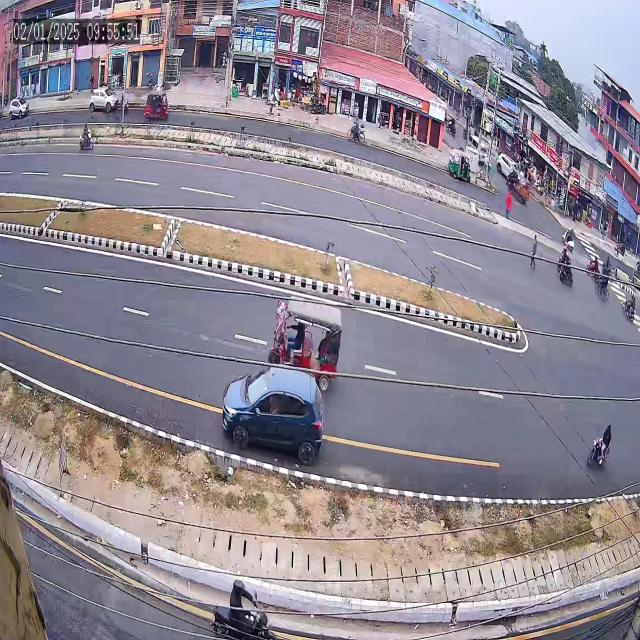auto: (264, 281, 350, 394)
car: (208, 356, 333, 479)
motorcycle: (191, 552, 280, 640), (584, 398, 617, 480), (72, 103, 95, 160)
